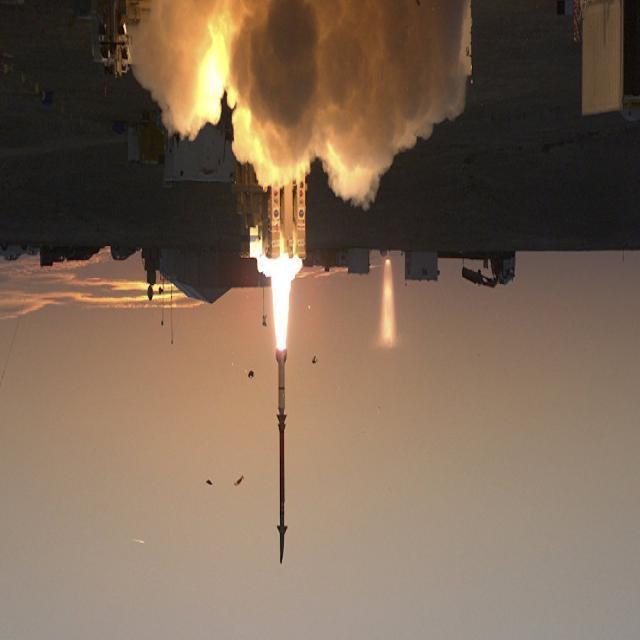missile: (273, 331, 289, 576)
